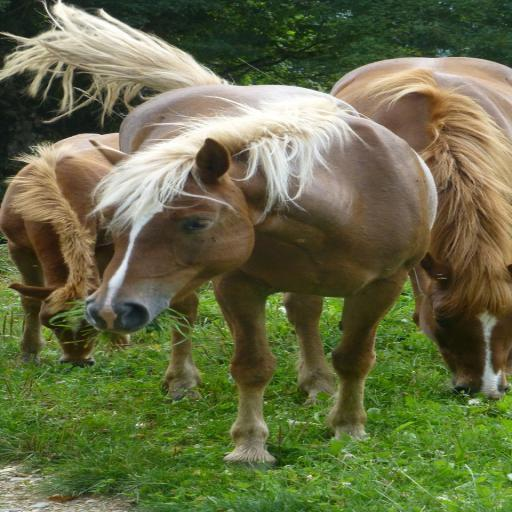horse: (0, 0, 441, 469), (324, 58, 512, 402), (0, 130, 125, 366)
